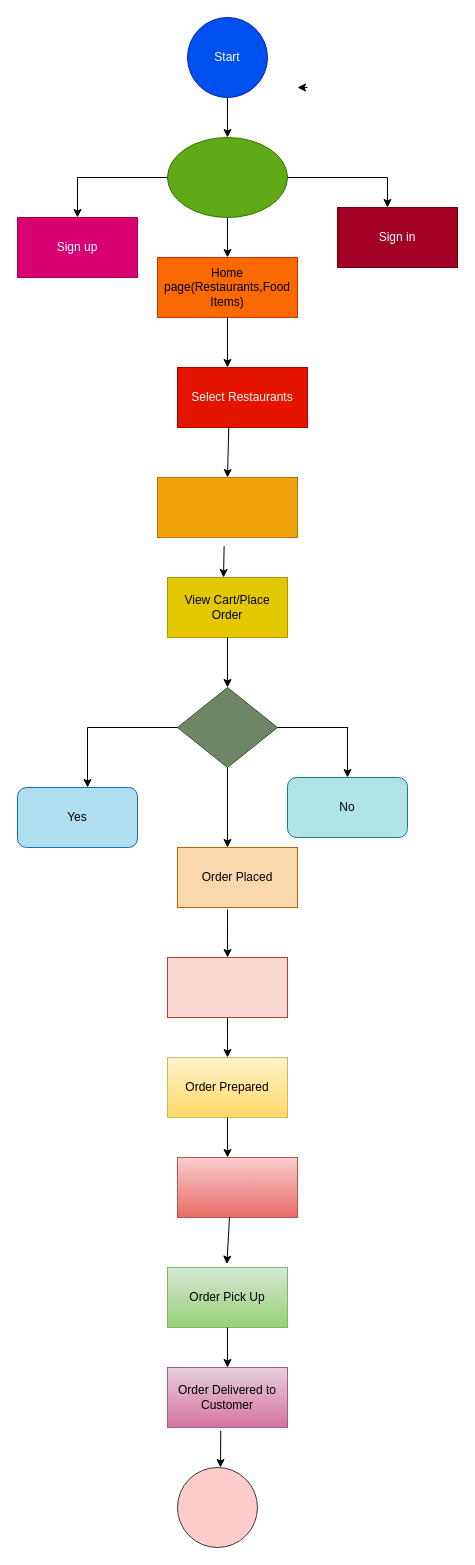
Image size: 475x1565. Some labels were removed from this diagram. The centre of each missing label's shape, as x and y in pixels:
Delivery Partner Assigned: [237,1187]
End: [217,1507]
Payment Successful: [227,727]
Restaurant accepts Order: [227,987]
Select Food items/Add to cart: [227,507]
User Login: [227,177]
